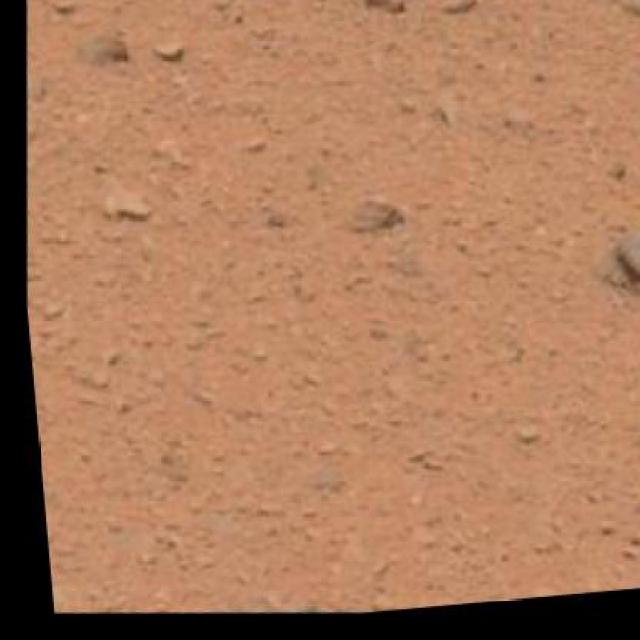rock: (54, 558, 638, 638), (583, 234, 639, 321)
